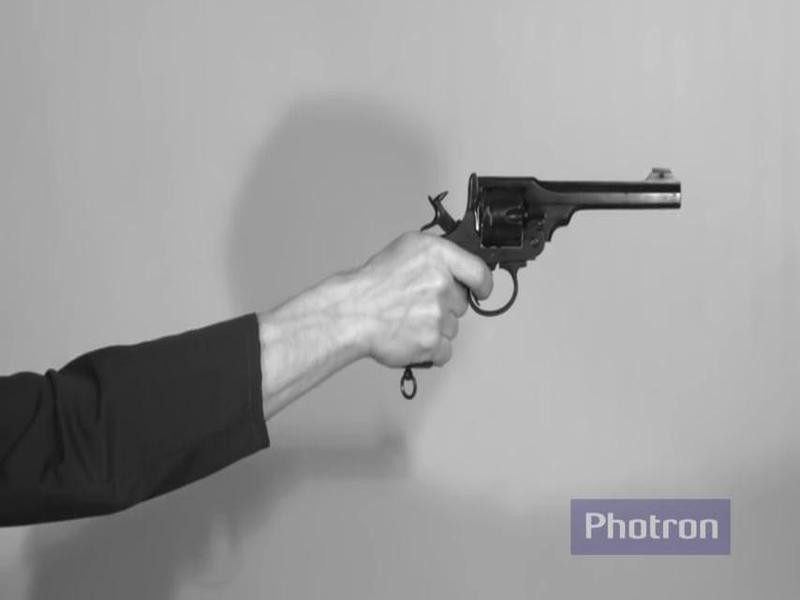Revolver: (359, 148, 702, 397)
